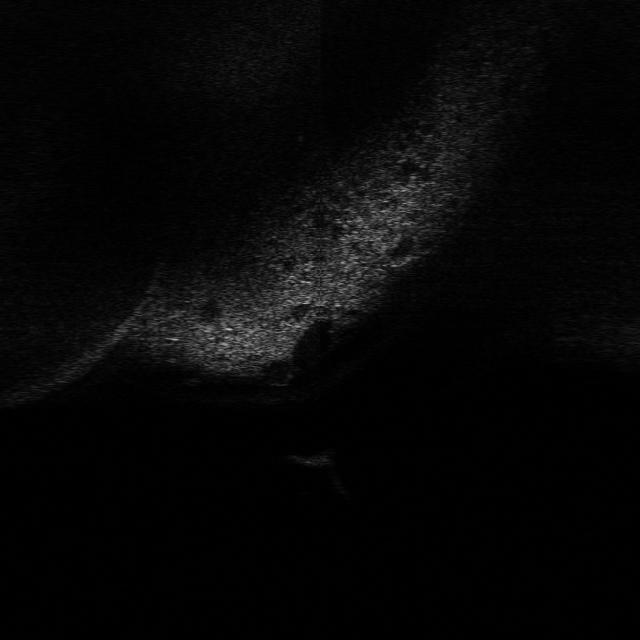cube: (284, 446, 338, 471)
